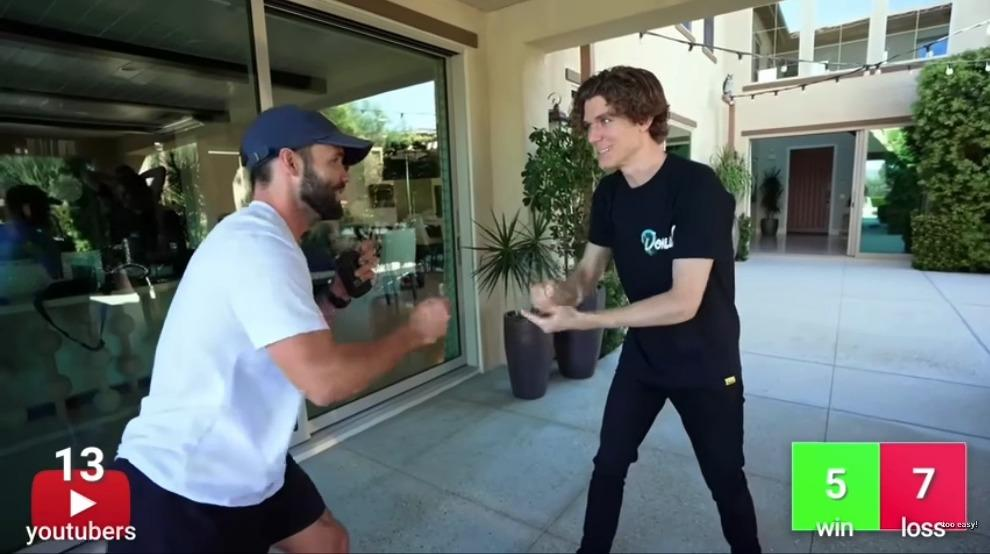Rock: (411, 298, 455, 345), (530, 279, 573, 312)
